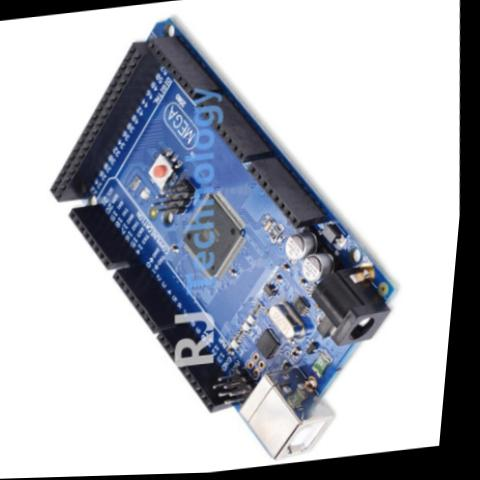Arduino-Mega: (6, 0, 446, 479)
